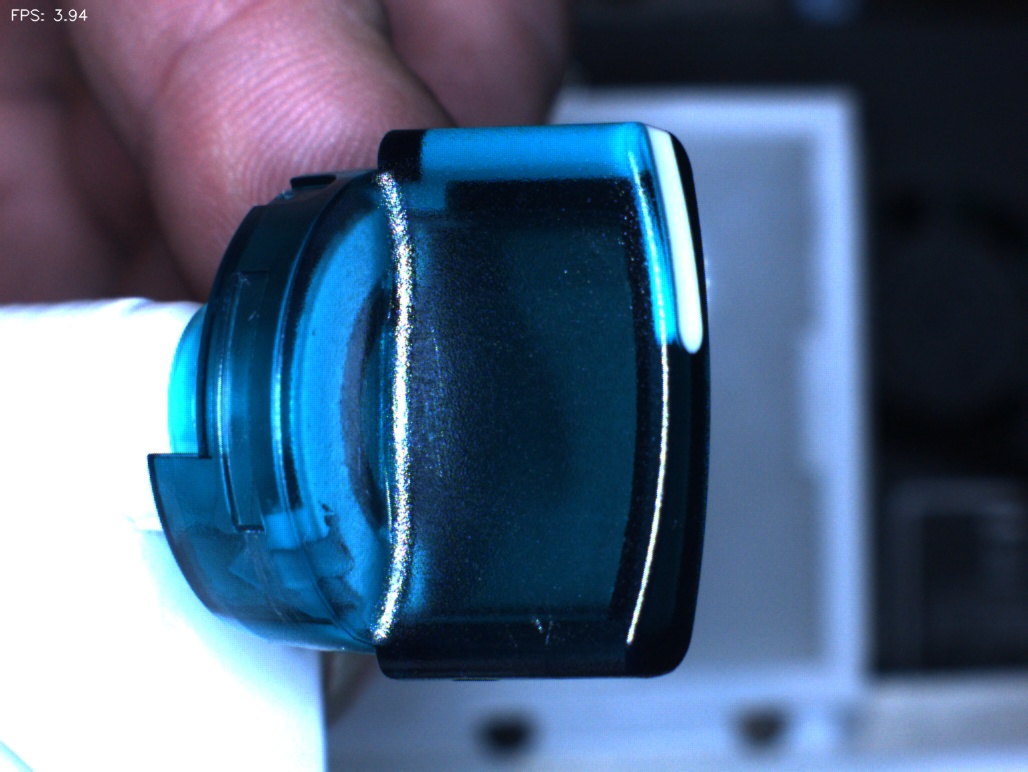Givrage: (399, 303, 476, 504)
